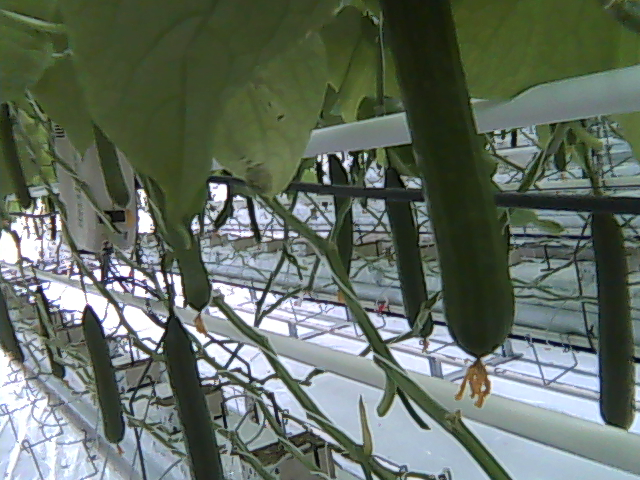concombre: (375, 1, 517, 407), (157, 301, 231, 480), (162, 212, 216, 337)
